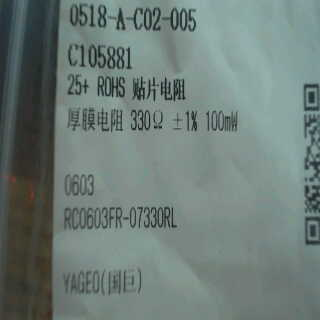330R: (128, 109, 168, 134)
